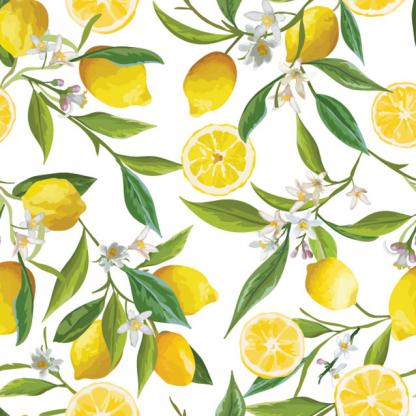--: (174, 118, 262, 202), (229, 307, 320, 387)
